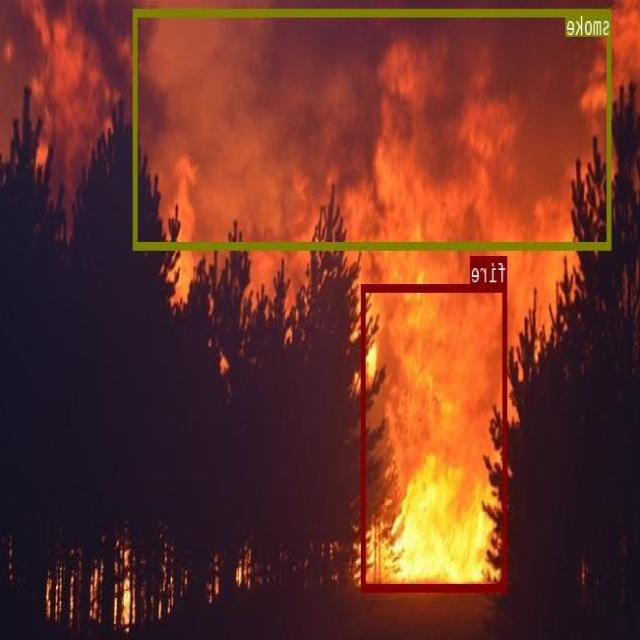fire: (362, 284, 508, 589)
smoke: (135, 8, 612, 247)
